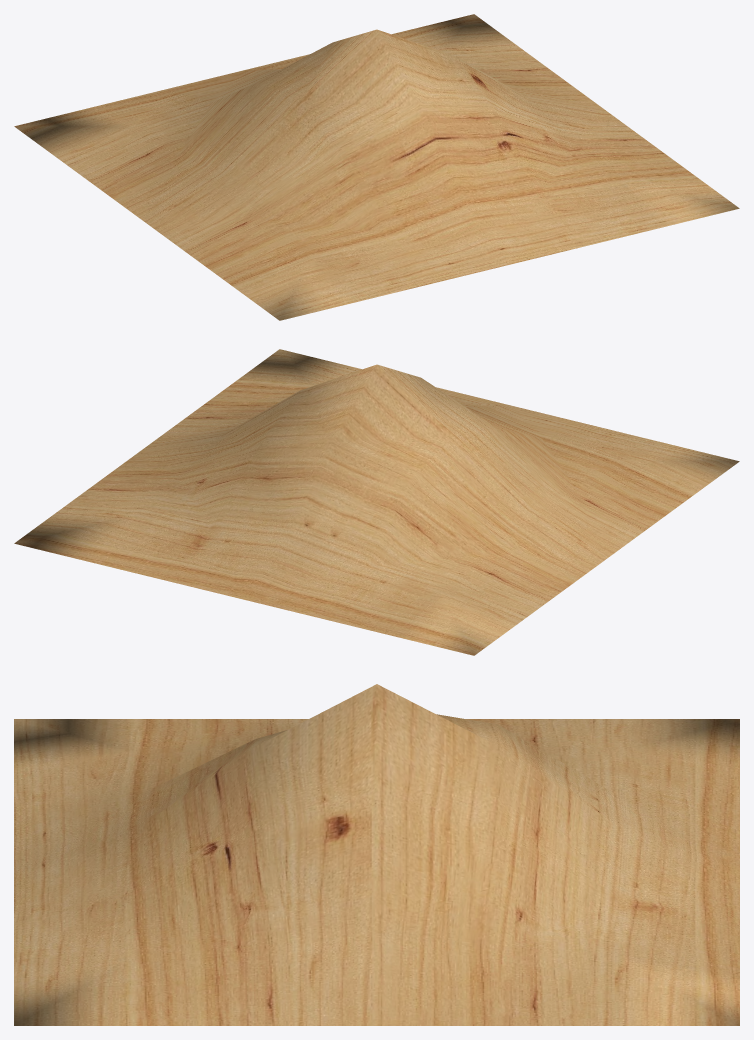
The model's file is compost.dae.
The picture shows the model from 3 angles, top to bottom: view 1: azimuth 30°, elevation 25°; view 2: azimuth 150°, elevation 25°; view 3: azimuth 270°, elevation 25°; orthographic projection. The views are drawn at different scales.
Parts seen in each view (by area): view 1: Cube; view 2: Cube; view 3: Cube.
Boxes of the visible parts, x1,y1,x2,y2 form: Cube: [14, 14, 739, 320]; Cube: [14, 349, 739, 655]; Cube: [14, 684, 739, 1025].
Size of the model in its own units: 2 by 2 by 0.5731.
Materials: 1 (1 with a texture image).
